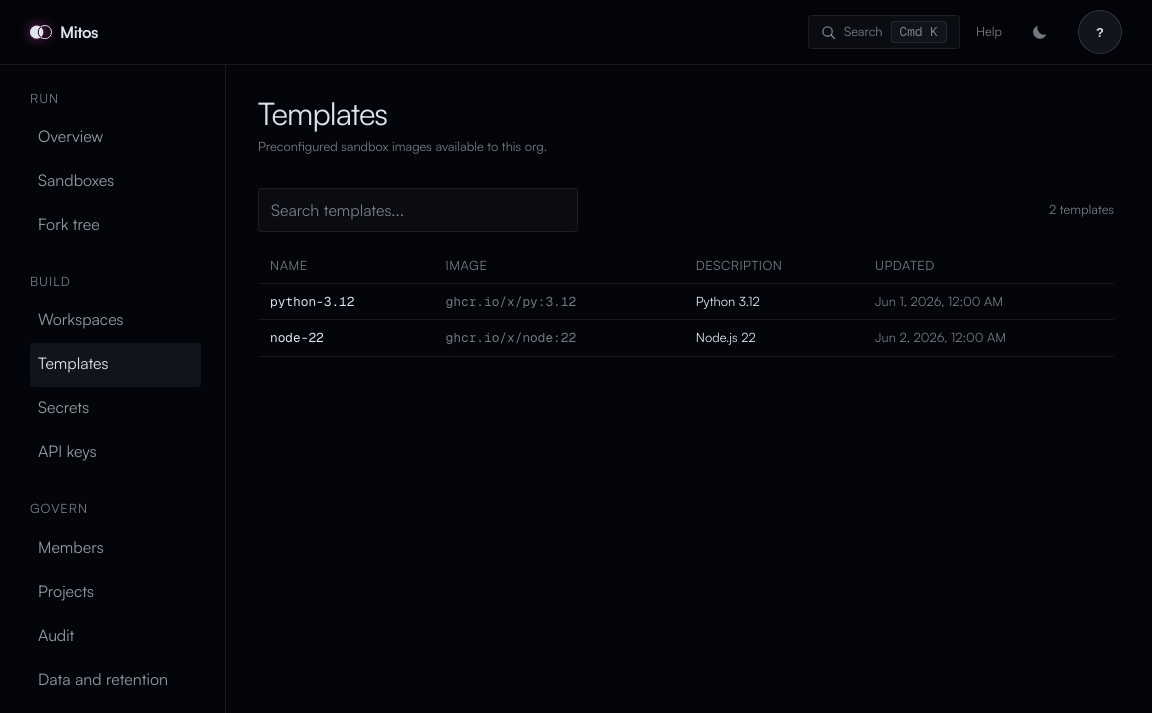
read views › filters the templates table when a search query is typed
Check: the text "python-3.12" is shown, box [258,284,434,320]
Check: the text "node-22" is shown, box [258,320,434,356]
Type "python" into the search field labelled "Search templates..." at (418, 210), box [258,188,578,232]
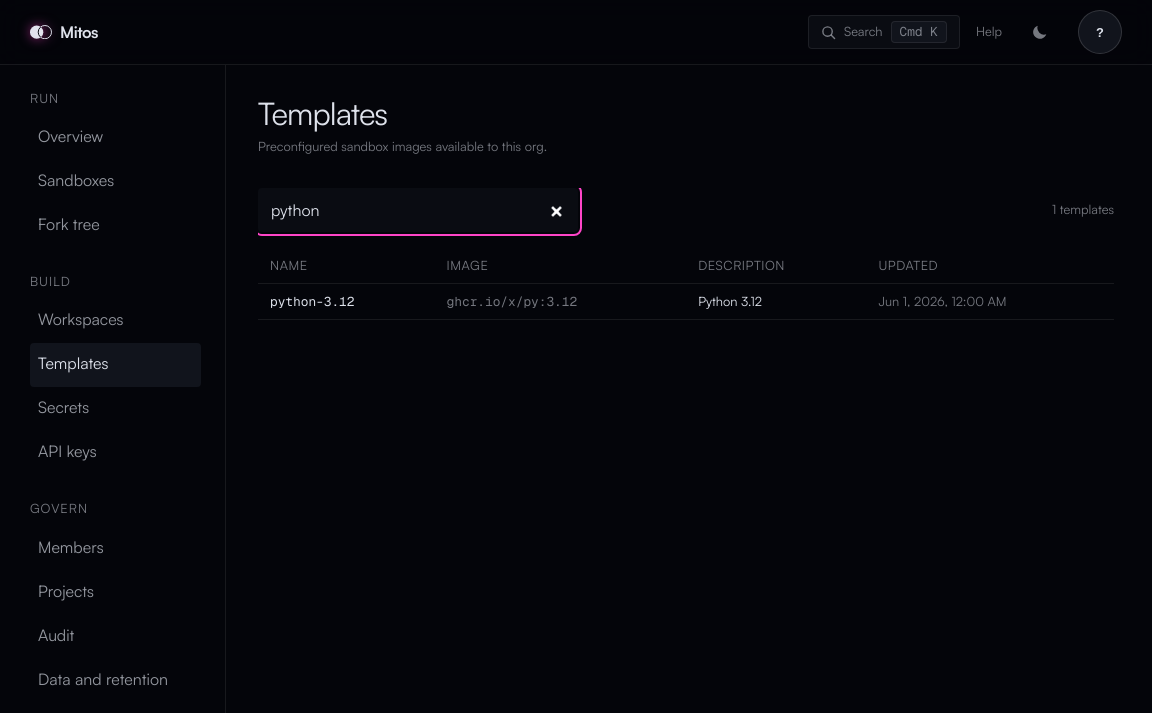
Check: the text "python-3.12" is shown, box [258,284,435,320]
Check: the text "node-22" is gone
